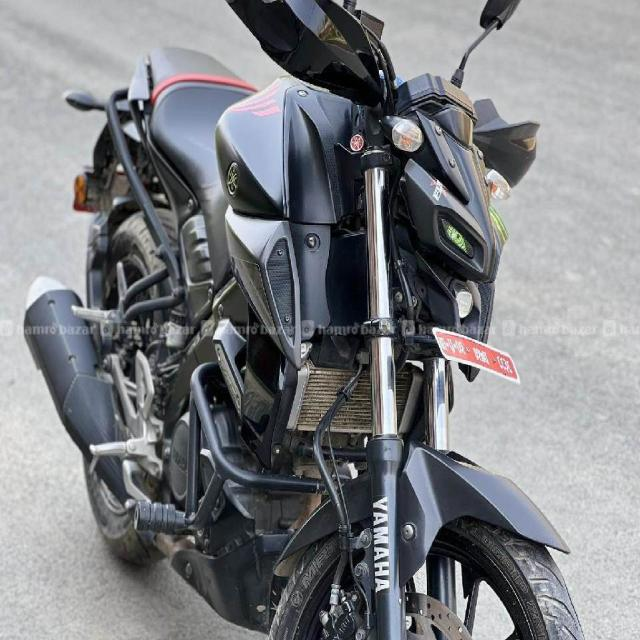License-plate: (426, 322, 522, 385)
